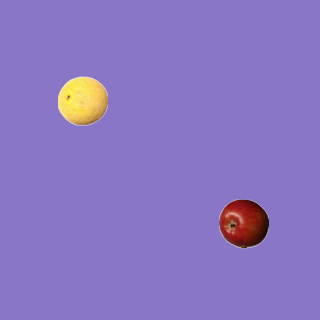Apple Braeburn: (218, 198, 268, 248)
Cantaloupe 1: (57, 75, 107, 125)
